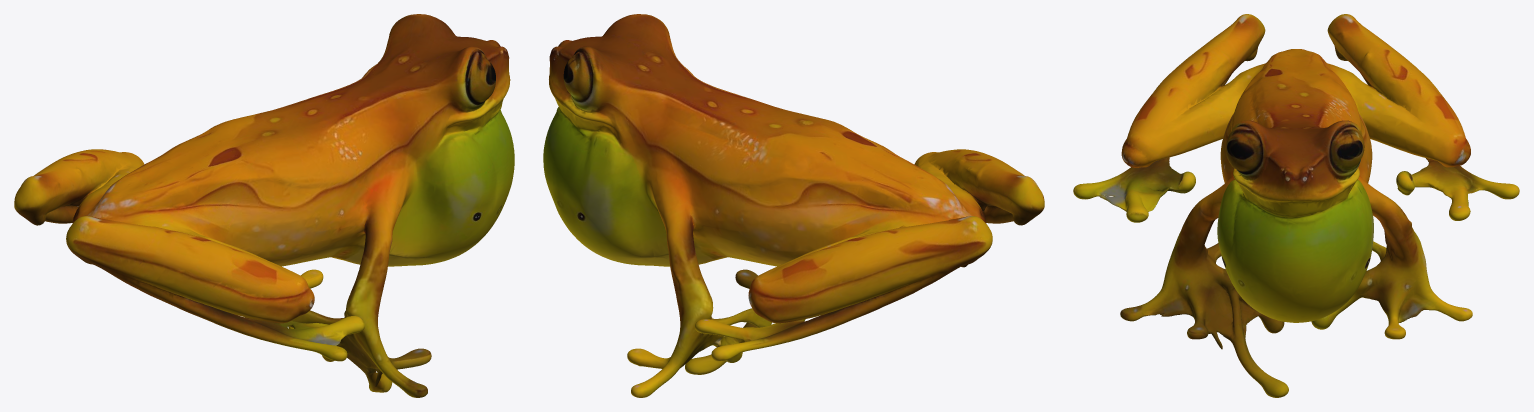
The model's file is dendropsophus-ebraccatus.glb.
3 views of the same model, side by side, from view 1: azimuth 30°, elevation 25°; view 2: azimuth 150°, elevation 25°; view 3: azimuth 270°, elevation 25° (orthographic). The views are drawn at different scales.
Visible parts, largest first — view 1: tripo_node_0f717d22-4cdd-4b86-8312-d18dfab41a94; view 2: tripo_node_0f717d22-4cdd-4b86-8312-d18dfab41a94; view 3: tripo_node_0f717d22-4cdd-4b86-8312-d18dfab41a94.
Boxes of the visible parts, bbox=[...] form: tripo_node_0f717d22-4cdd-4b86-8312-d18dfab41a94: bbox=[14, 14, 514, 397]; tripo_node_0f717d22-4cdd-4b86-8312-d18dfab41a94: bbox=[543, 14, 1044, 397]; tripo_node_0f717d22-4cdd-4b86-8312-d18dfab41a94: bbox=[1073, 14, 1519, 397].
Bounding box in the file's own units: 0.9999 × 0.6819 × 0.8994.
Materials: 1 (1 with a texture image).
